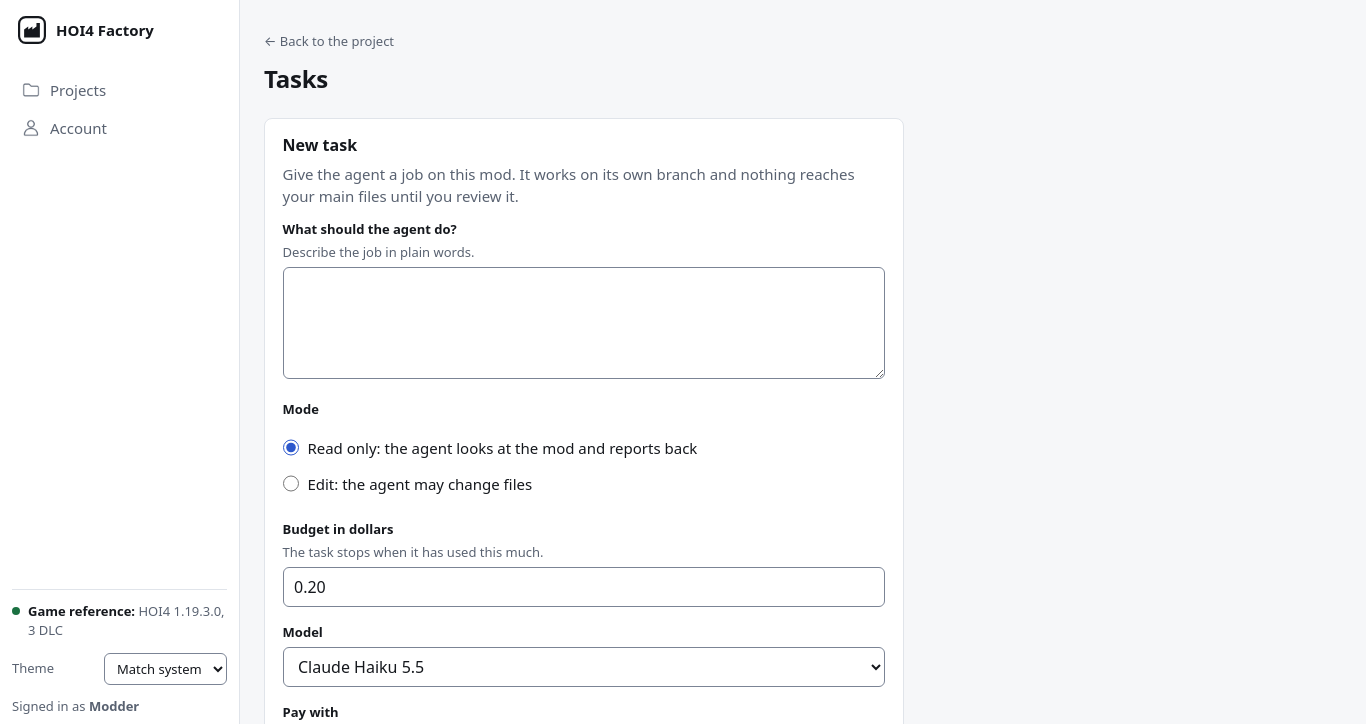
Test: task list and create form › asks for allowed paths before an edit task is sent
In the text box labelled "What should the agent do?": (584, 323) [283, 266, 885, 379], type "Edit"
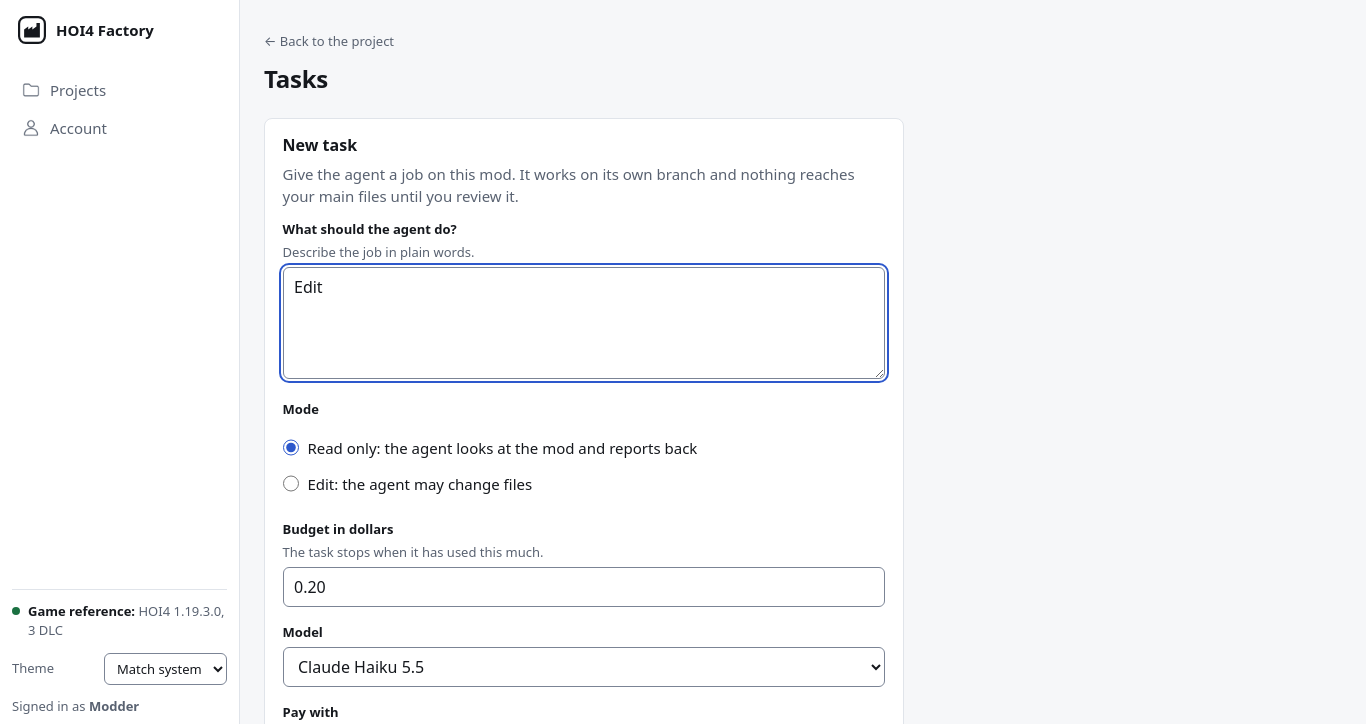
Click the radio button labelled "Edit: the agent may change files": click(291, 484) [283, 476, 299, 492]
(page scrolled)
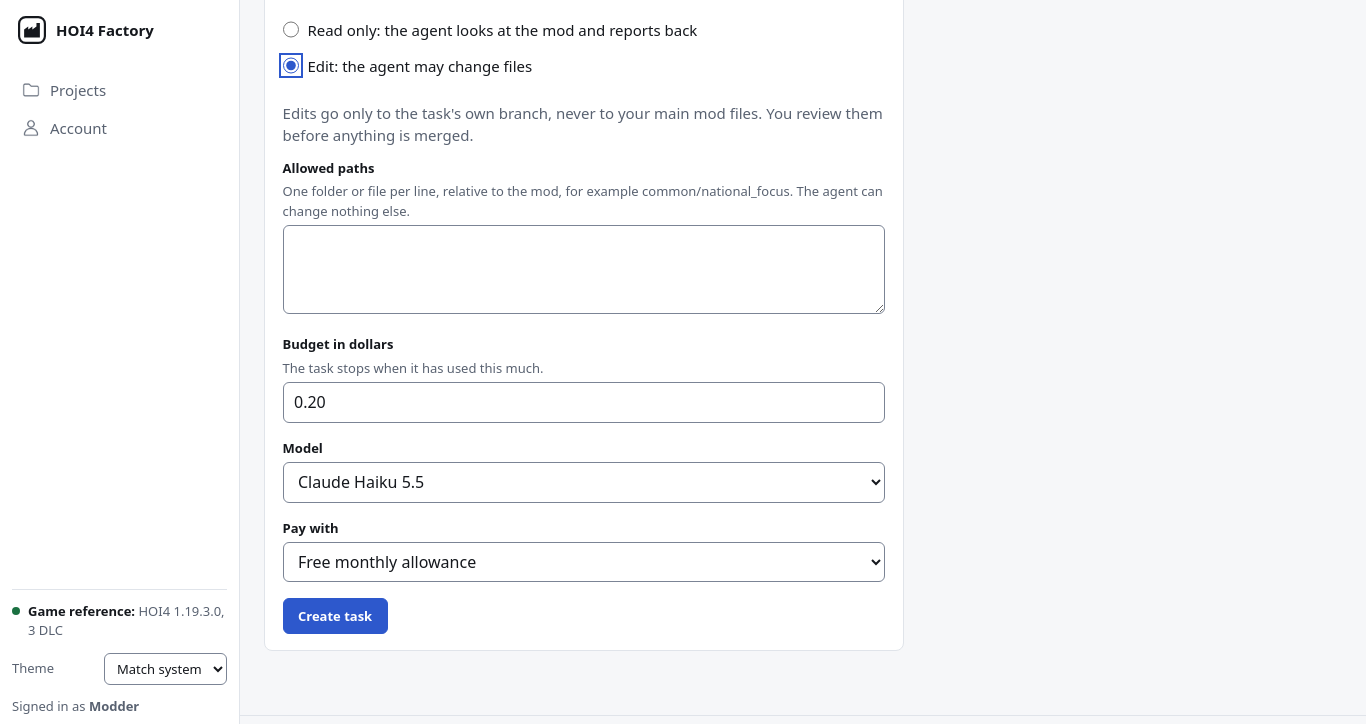
Click the button "Create task": click(335, 616) [283, 598, 388, 634]
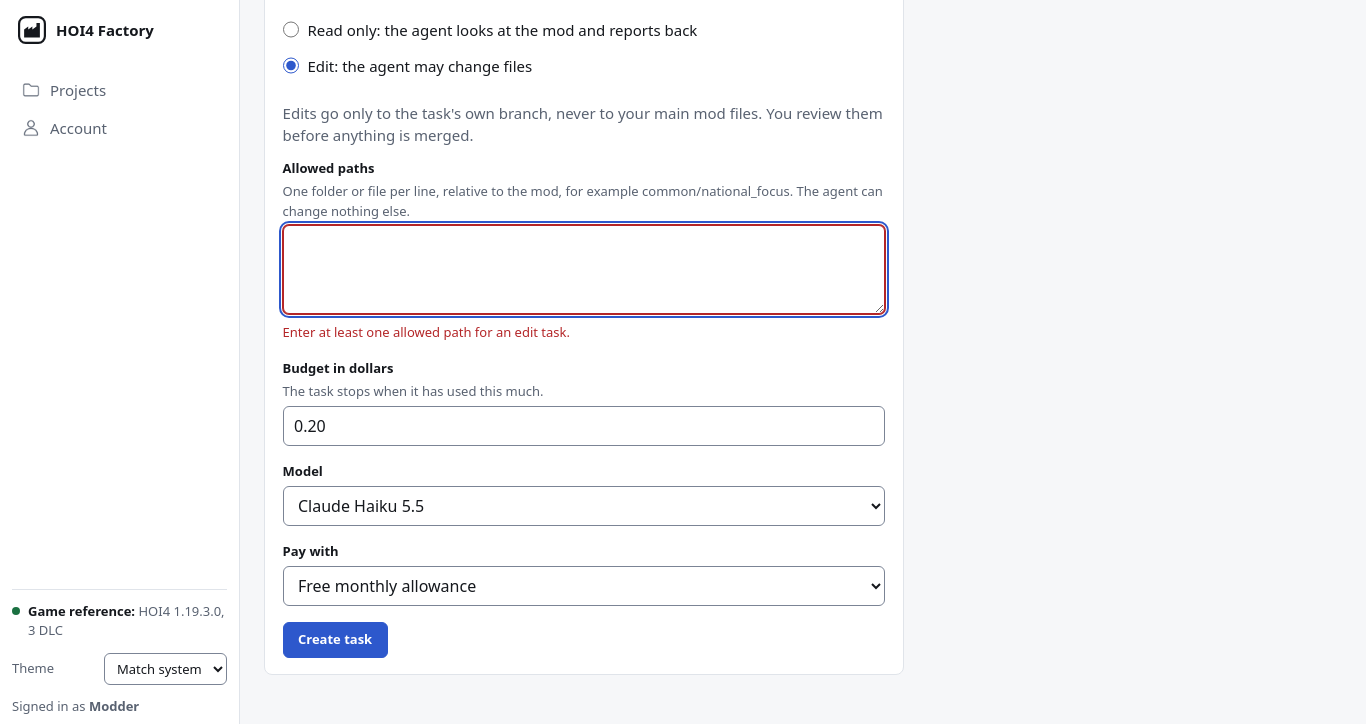
Now the text "Enter at least one allowed path for an edit task." is shown, box [283, 323, 570, 341]
